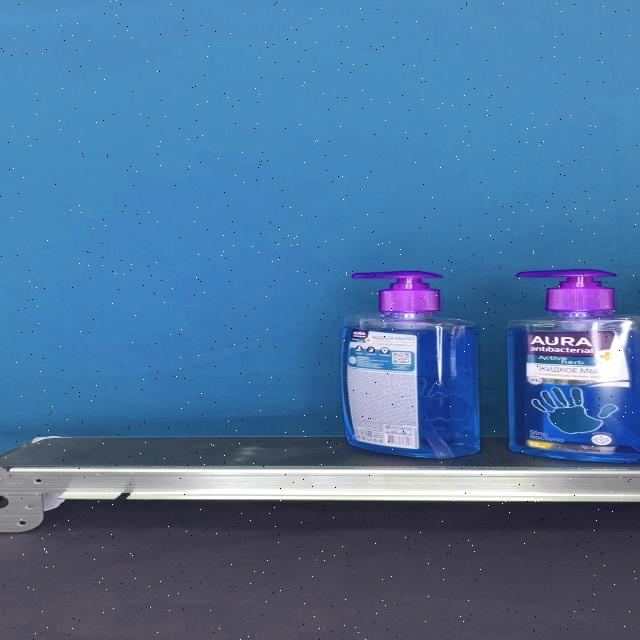Bottle: (341, 271, 480, 459), (507, 270, 640, 463)
Cap: (516, 270, 615, 312), (350, 272, 442, 314)
